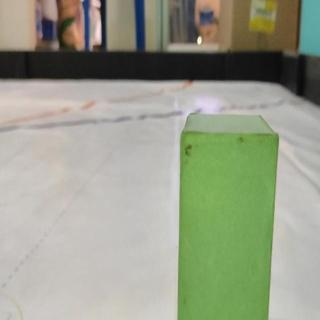greenbox: (179, 111, 281, 320)
